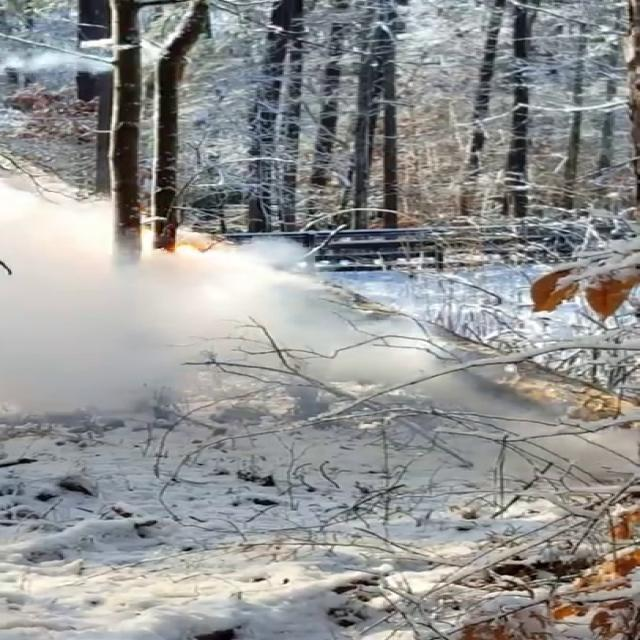Smoke: (1, 166, 544, 438)
